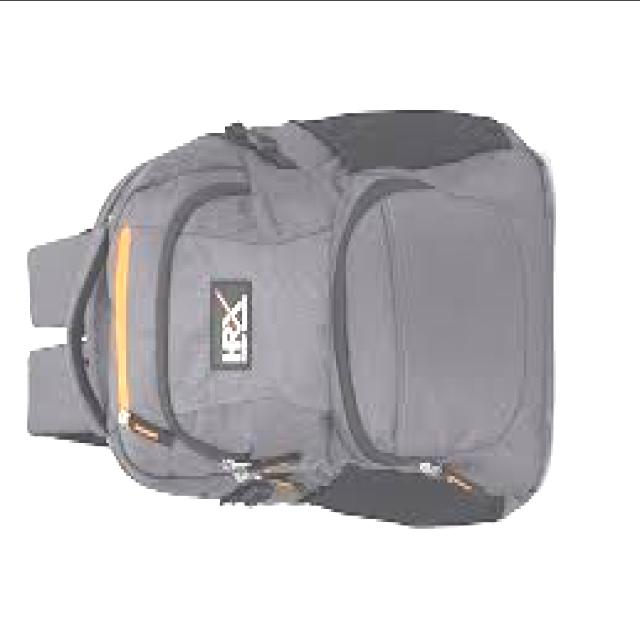backpack: (23, 110, 555, 532)
